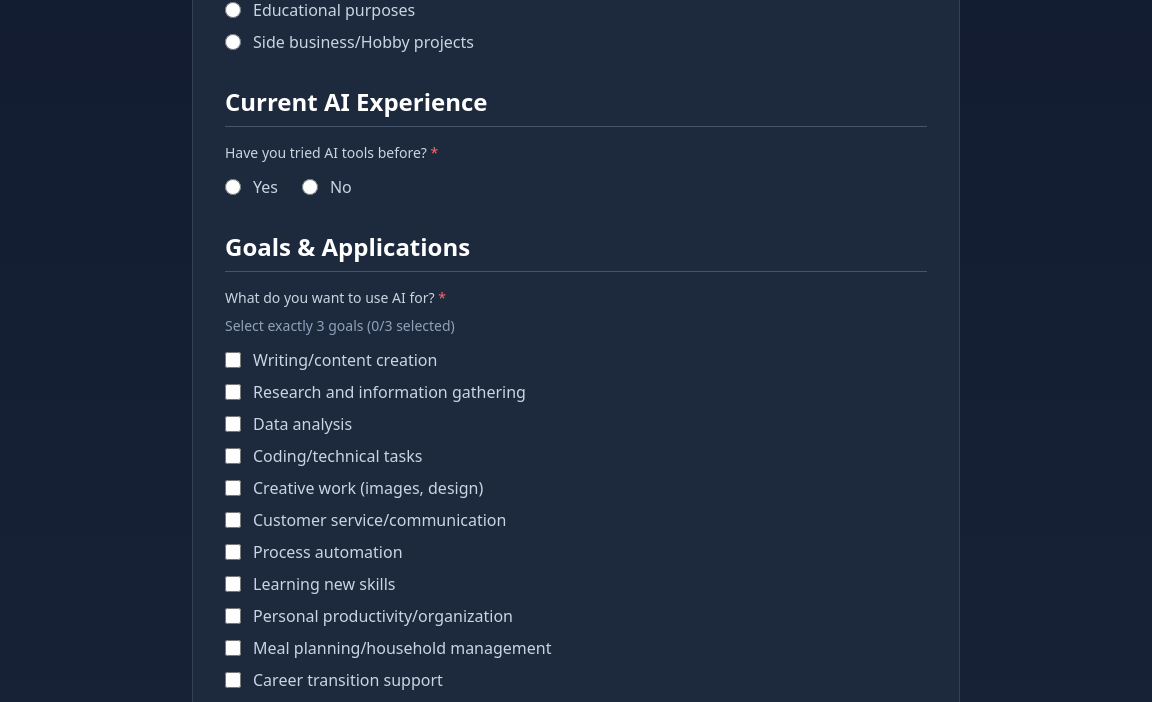
Scenario: Register Component - Extended Form › Goals Section › allows deselecting to select different goals
This screenshot has width=1152, height=702.
(page scrolled)
Note: Select 3 goals
Click the checkbox labelled "Writing/content creation" at (233, 360), box [225, 352, 241, 368]
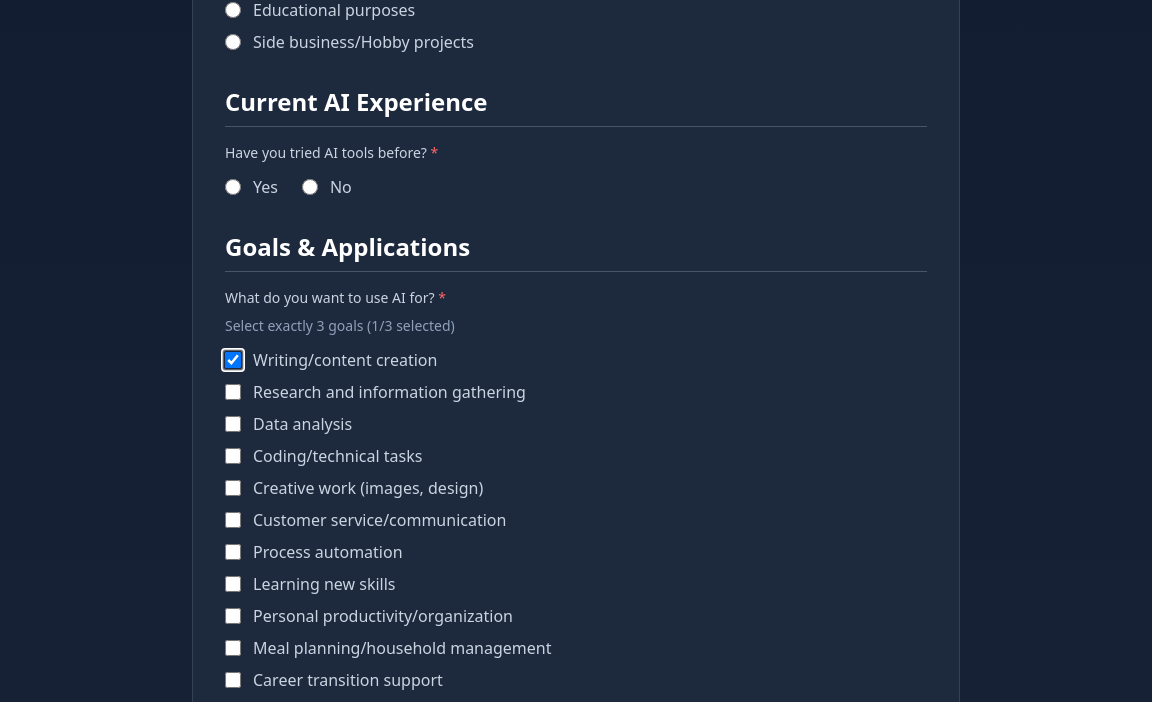
Click the checkbox labelled "Research and information gathering" at (233, 392), box [225, 384, 241, 400]
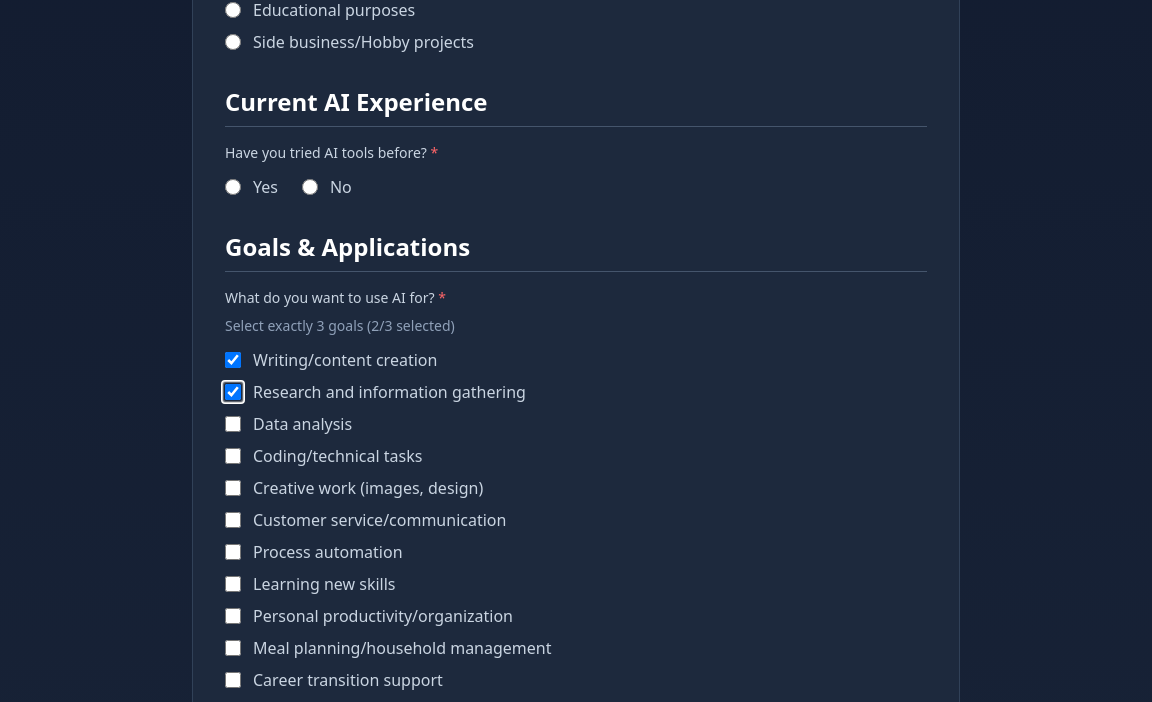
Click the checkbox labelled "Data analysis" at (233, 424), box [225, 416, 241, 432]
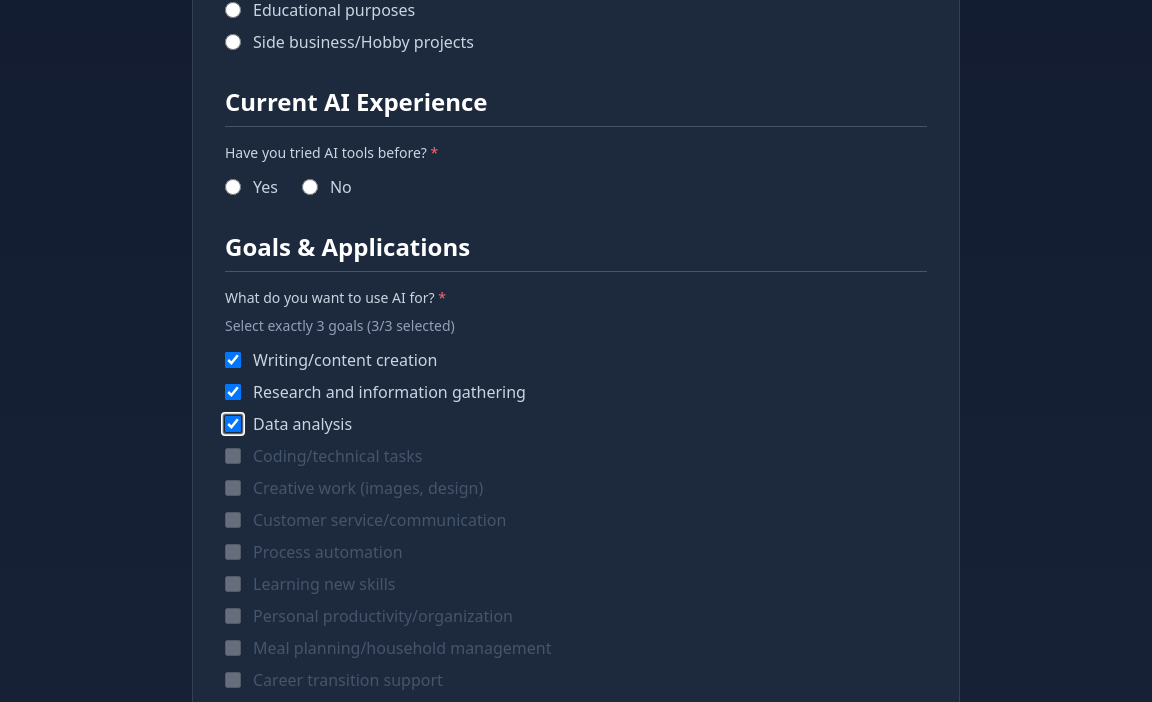
Note: Deselect one
Click the checkbox labelled "Writing/content creation" at (233, 360), box [225, 352, 241, 368]
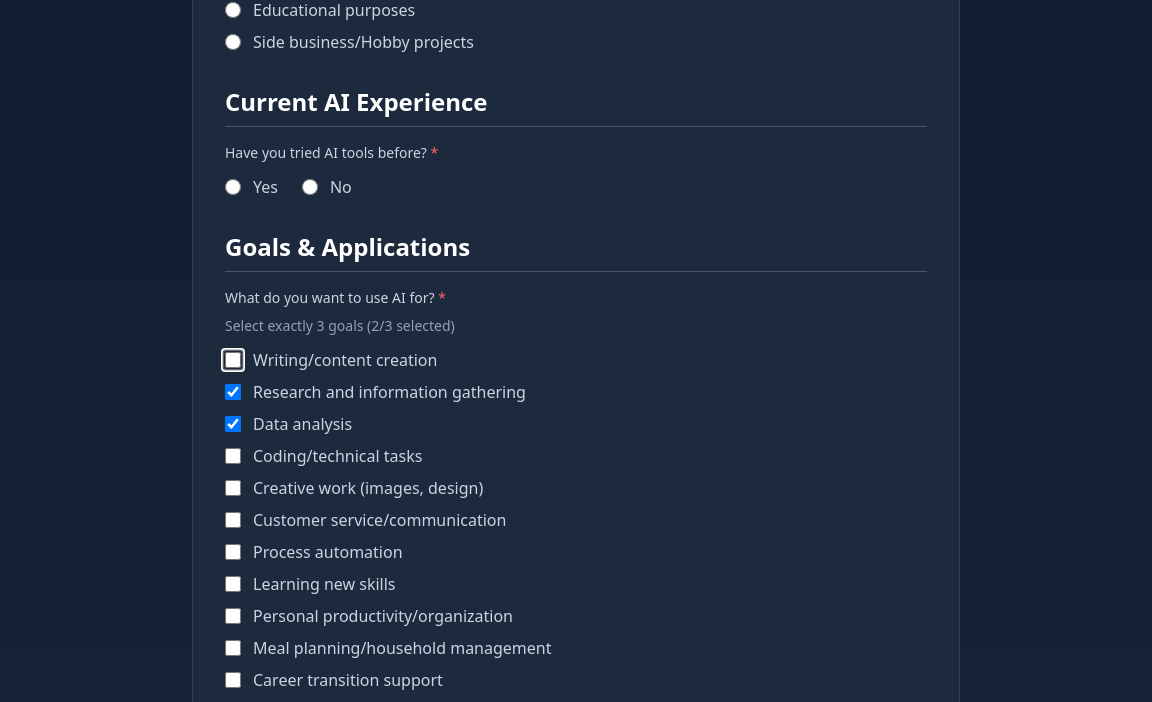
Now the text "Select exactly 3 goals (2/3 selected)" is shown, box [225, 316, 455, 335]
Note: Select a different one
Click the checkbox labelled "Coding/technical tasks" at (233, 456), box [225, 448, 241, 464]
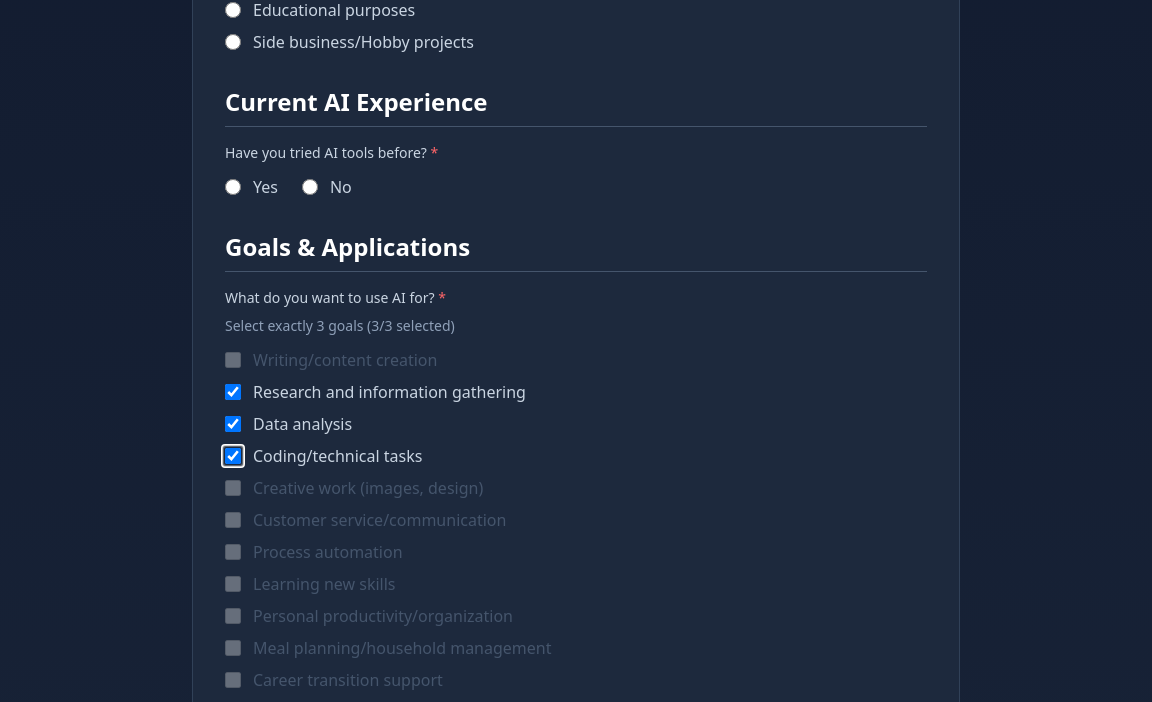
Now the text "Select exactly 3 goals (3/3 selected)" is shown, box [225, 316, 455, 335]
